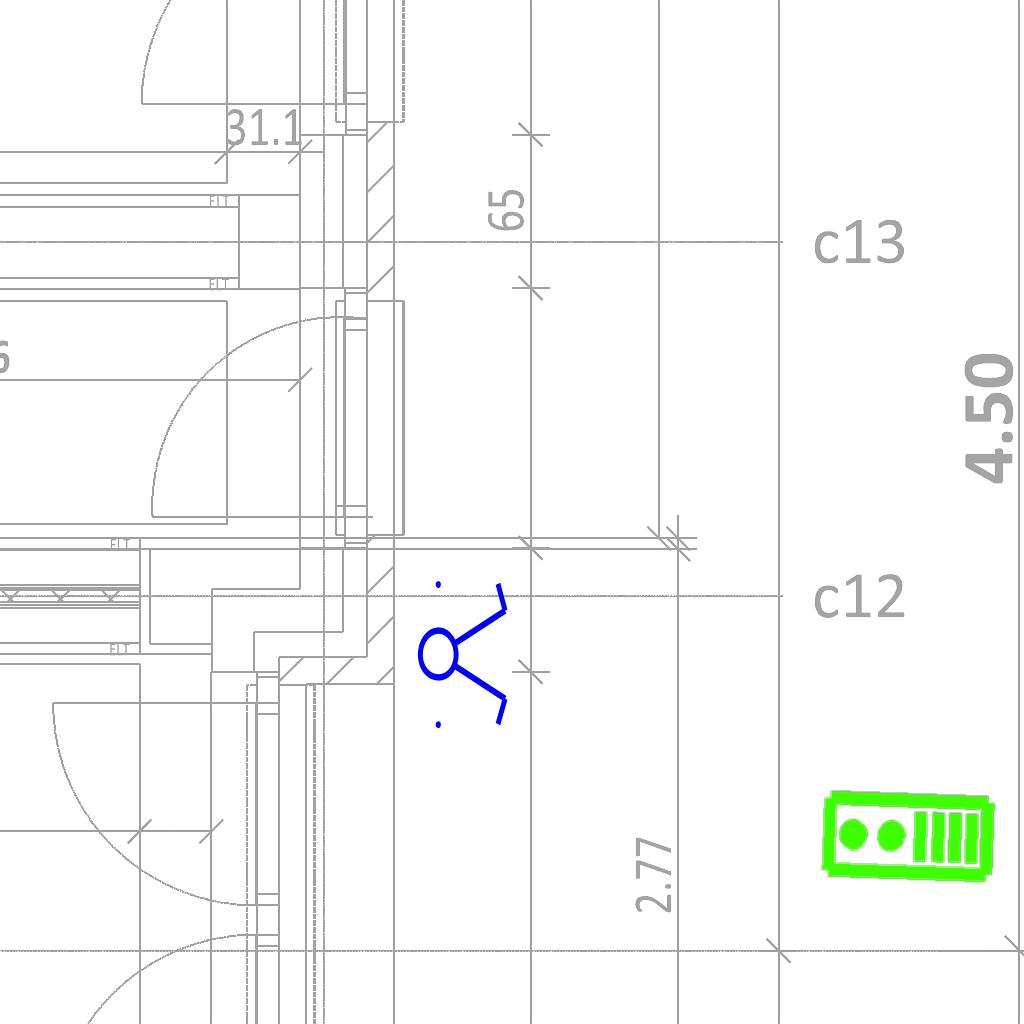Gegensprechanlage_mit_Video: (817, 787, 998, 889)
Serienschalter: (416, 569, 512, 737)
